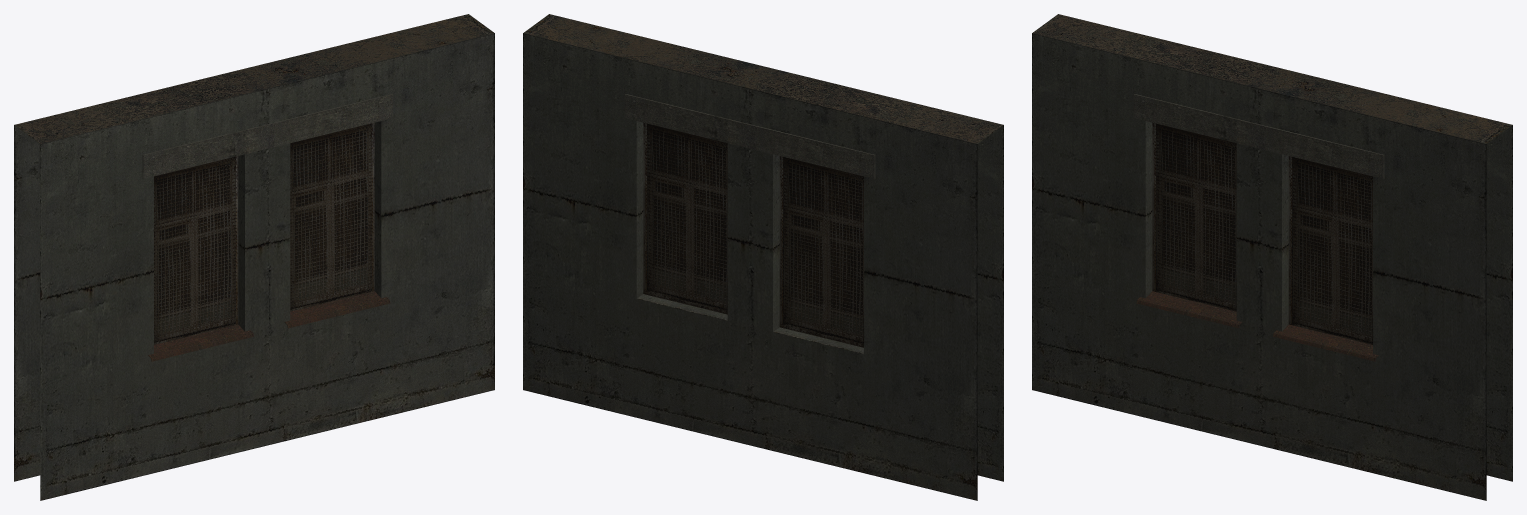
Rendered from windows_rg_1.glb.
3 views of the same model, side by side, from view 1: azimuth 30°, elevation 25°; view 2: azimuth 150°, elevation 25°; view 3: azimuth 330°, elevation 25° (orthographic).
Visible parts, largest first — view 1: windows_rg_1; view 2: windows_rg_1; view 3: windows_rg_1.
Boxes of the visible parts, box(x1,y1,x2,y2) form: windows_rg_1: box(14, 14, 494, 500); windows_rg_1: box(523, 14, 1003, 500); windows_rg_1: box(1032, 14, 1512, 500).
Size of the model in its own units: 4 by 3 by 0.465.
Materials: 5 (5 with a texture image).
